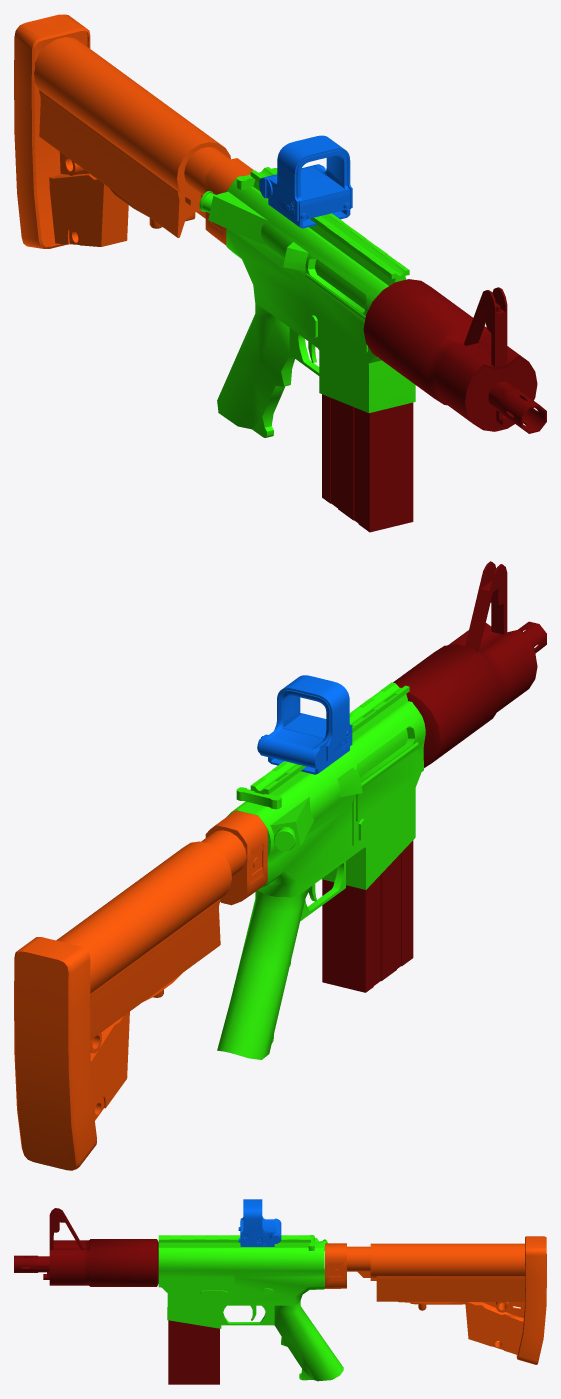
3 renders of one model, top to bottom at view 1: azimuth 30°, elevation 25°; view 2: azimuth 150°, elevation 25°; view 3: azimuth 270°, elevation 25°, orthographic. The views are drawn at different scales.
Parts seen in each view (by area): view 1: Stock, Reciver & Grip, Barrel & Magazine, Eo Sight; view 2: Stock, Reciver & Grip, Barrel & Magazine, Eo Sight; view 3: Stock, Reciver & Grip, Barrel & Magazine, Eo Sight.
Boxes of the visible parts, x1,y1,x2,y2 form: Stock: (14,14,253,248); Reciver & Grip: (199,167,415,437); Barrel & Magazine: (322,279,546,532); Eo Sight: (259,135,352,228); Stock: (14,810,267,1170); Reciver & Grip: (217,682,425,1059); Barrel & Magazine: (322,561,546,992); Eo Sight: (257,675,352,774); Stock: (325,1236,546,1364); Reciver & Grip: (158,1235,343,1381); Barrel & Magazine: (14,1208,219,1384); Eo Sight: (238,1199,281,1246).
Bounding box in the file's own units: 0.2218 × 0.798 × 2.19.
